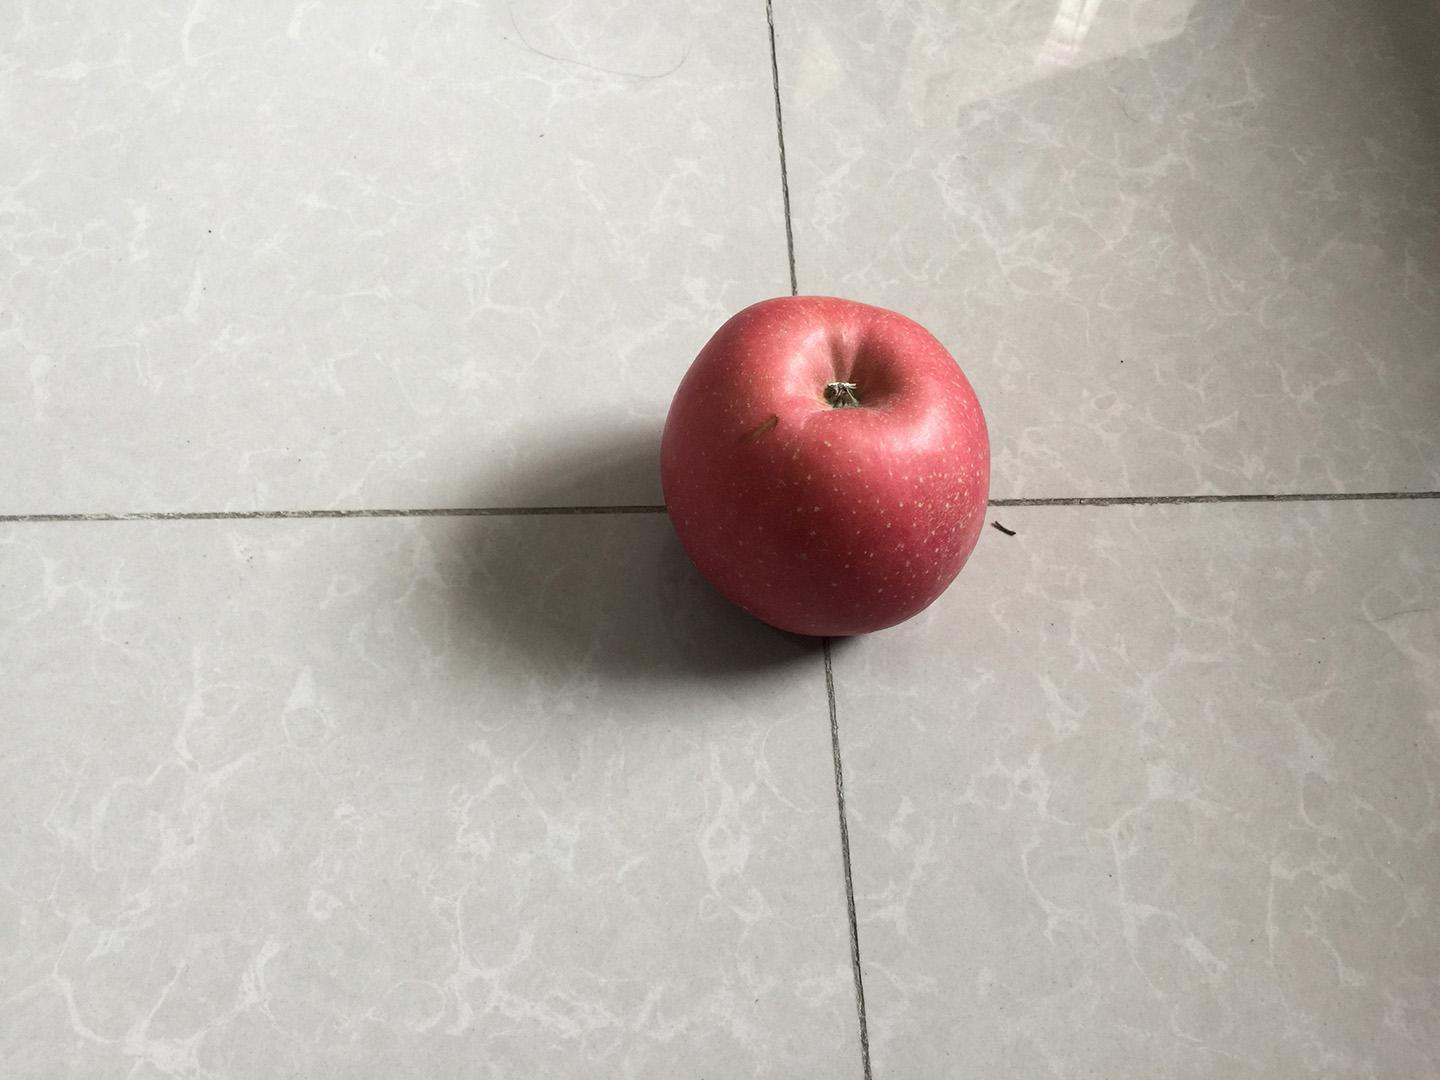apple: (654, 292, 998, 642)
